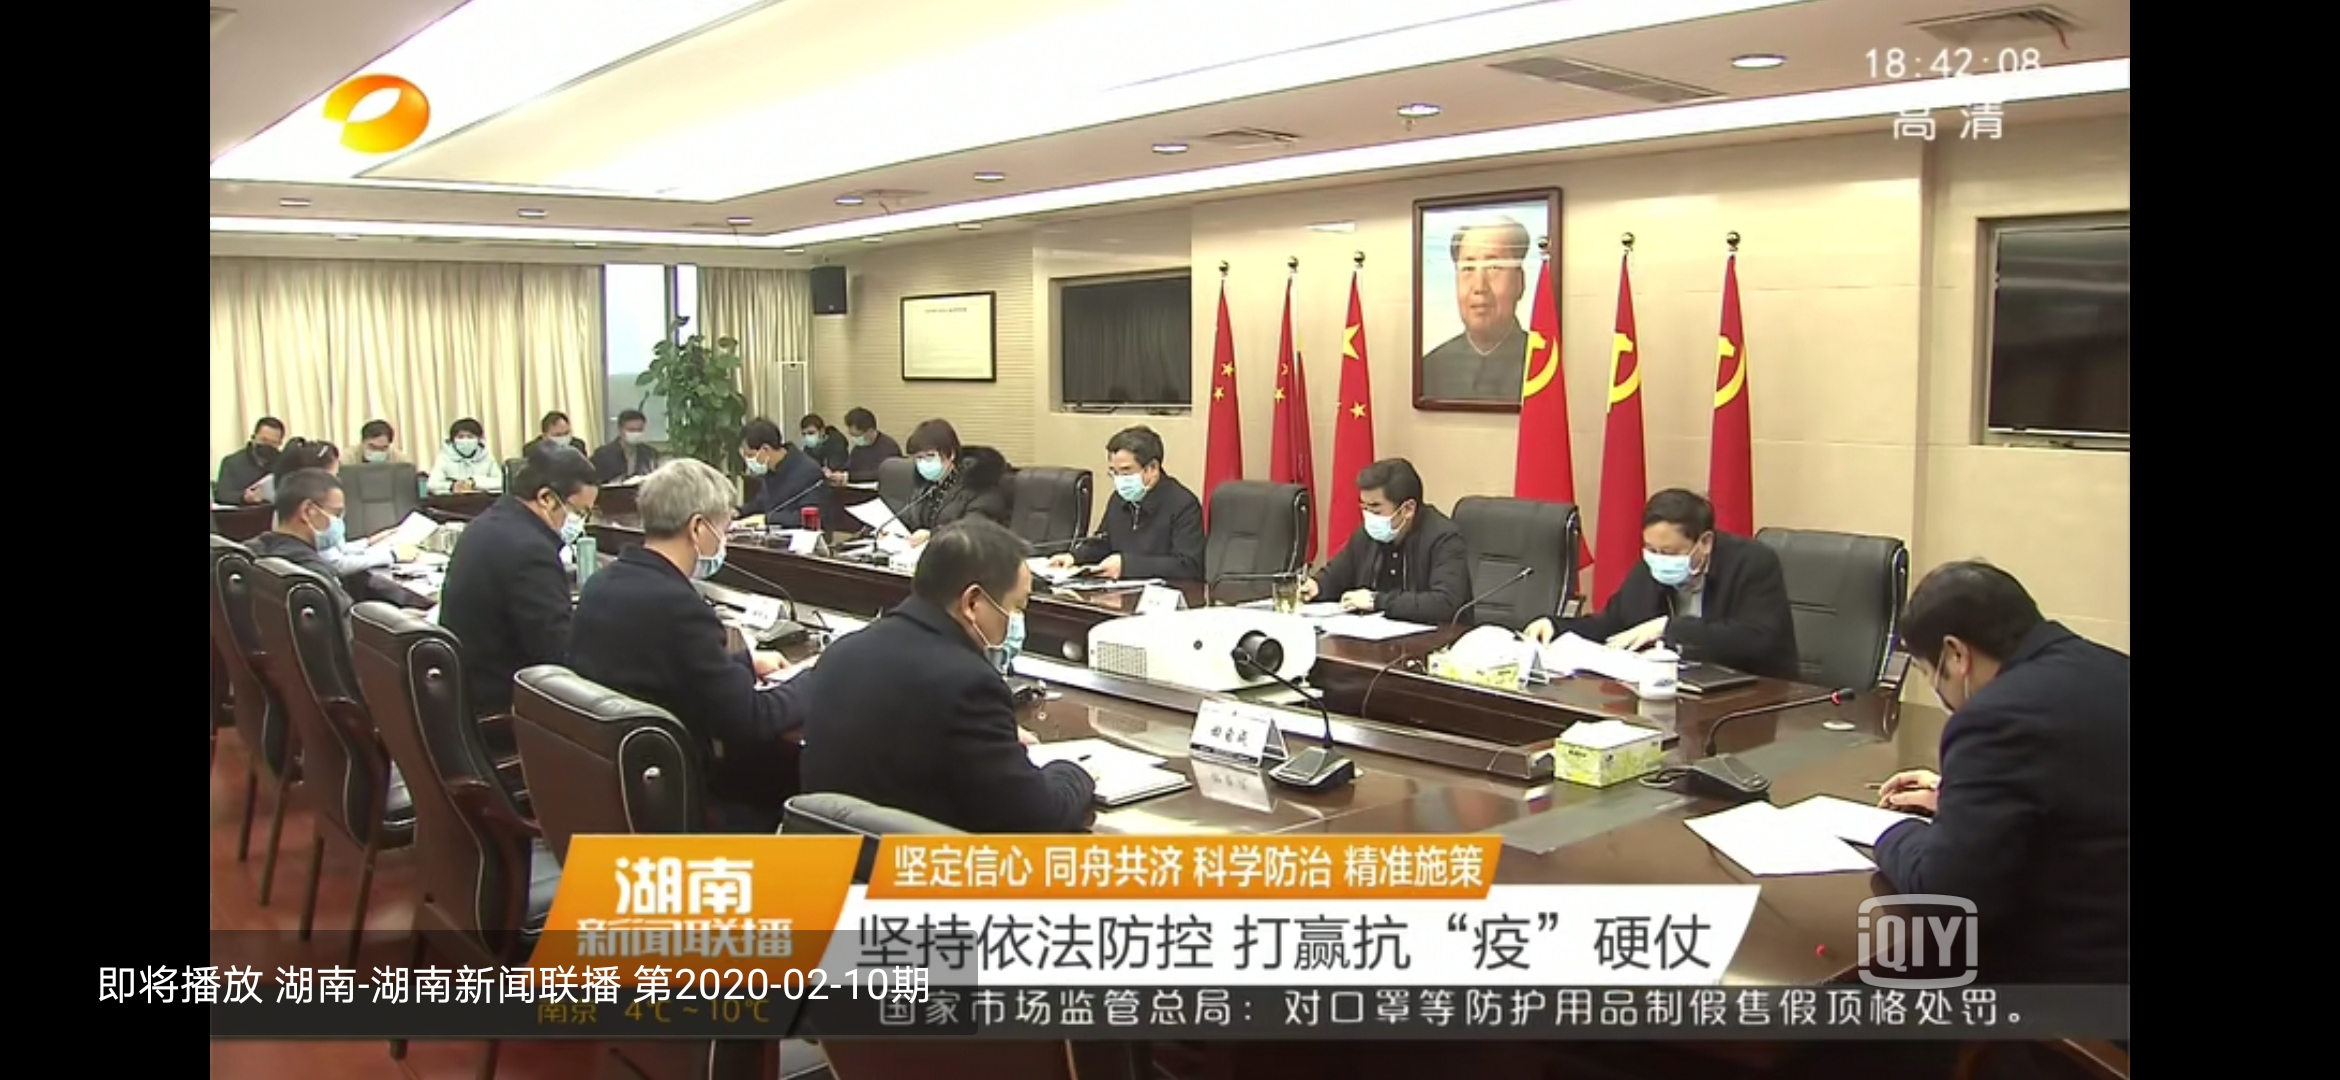correctlyWear: (963, 582, 1030, 679), (1910, 634, 1979, 722), (1642, 531, 1713, 592), (539, 485, 592, 550), (682, 509, 728, 583), (297, 494, 351, 553), (1360, 498, 1418, 543), (1106, 459, 1163, 503), (910, 450, 958, 483), (740, 442, 780, 477), (360, 434, 392, 465), (546, 421, 578, 450), (249, 431, 278, 462), (452, 431, 482, 459), (618, 421, 645, 448), (848, 428, 876, 448), (801, 427, 824, 450)
